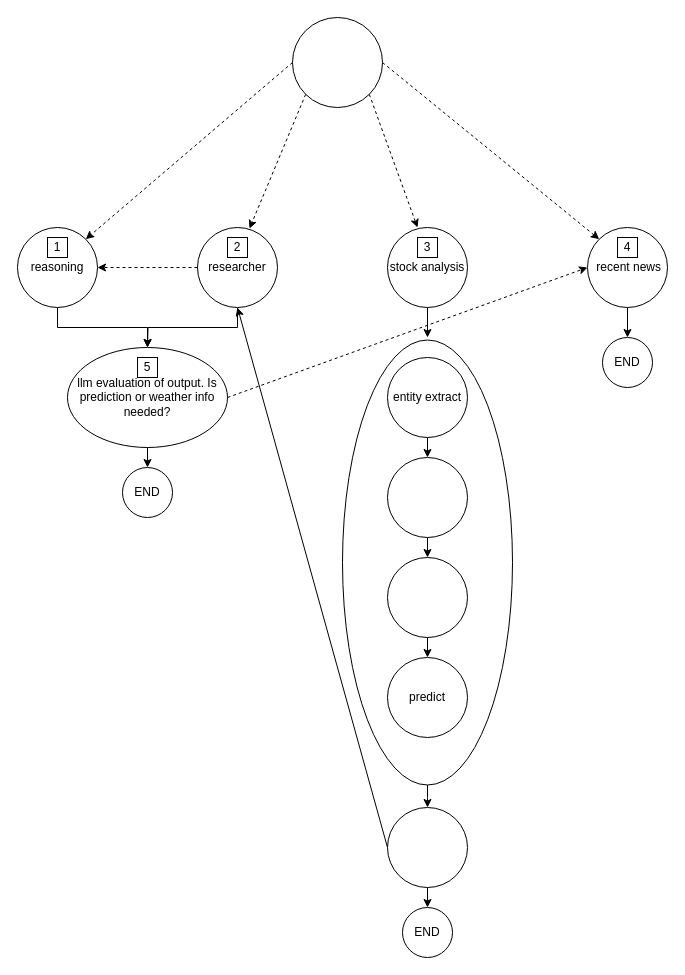
Image size: 685x975. Some labels were removed from this diagram. The centre of each missing label's shape, as x and y in pixels:
data fetch: pixel 427 497
Node 2 & 1 sequential calling: pixel 427 847
Supervisor: pixel 337 62
train: pixel 427 597
